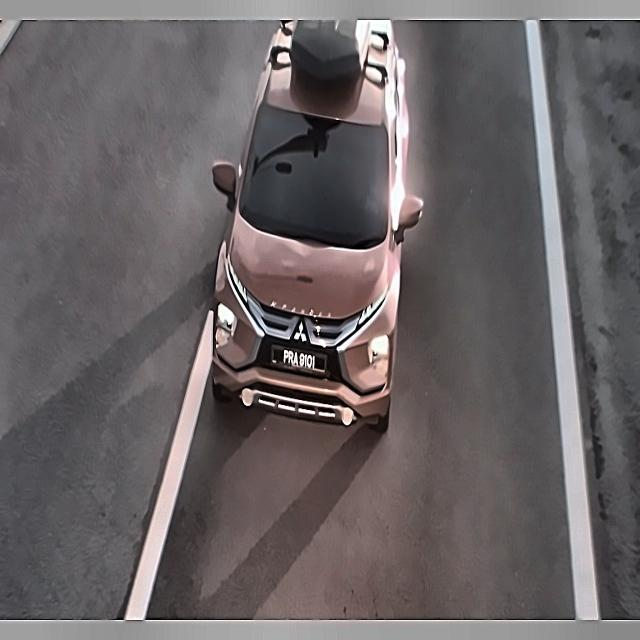car: (266, 338, 336, 378)
